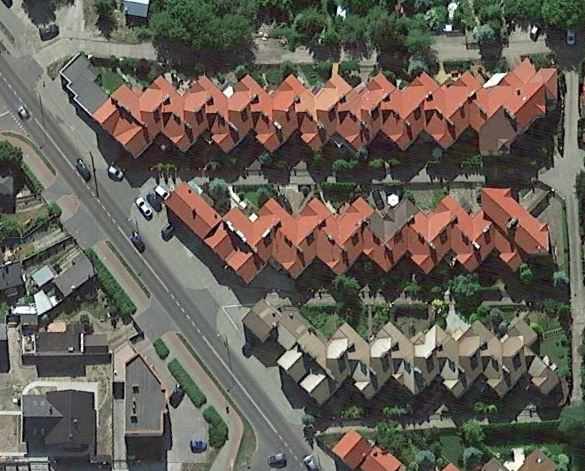family house: (14, 389, 105, 466), (120, 353, 178, 437)
terrace house: (54, 48, 561, 161), (159, 178, 561, 286), (236, 294, 563, 409)
